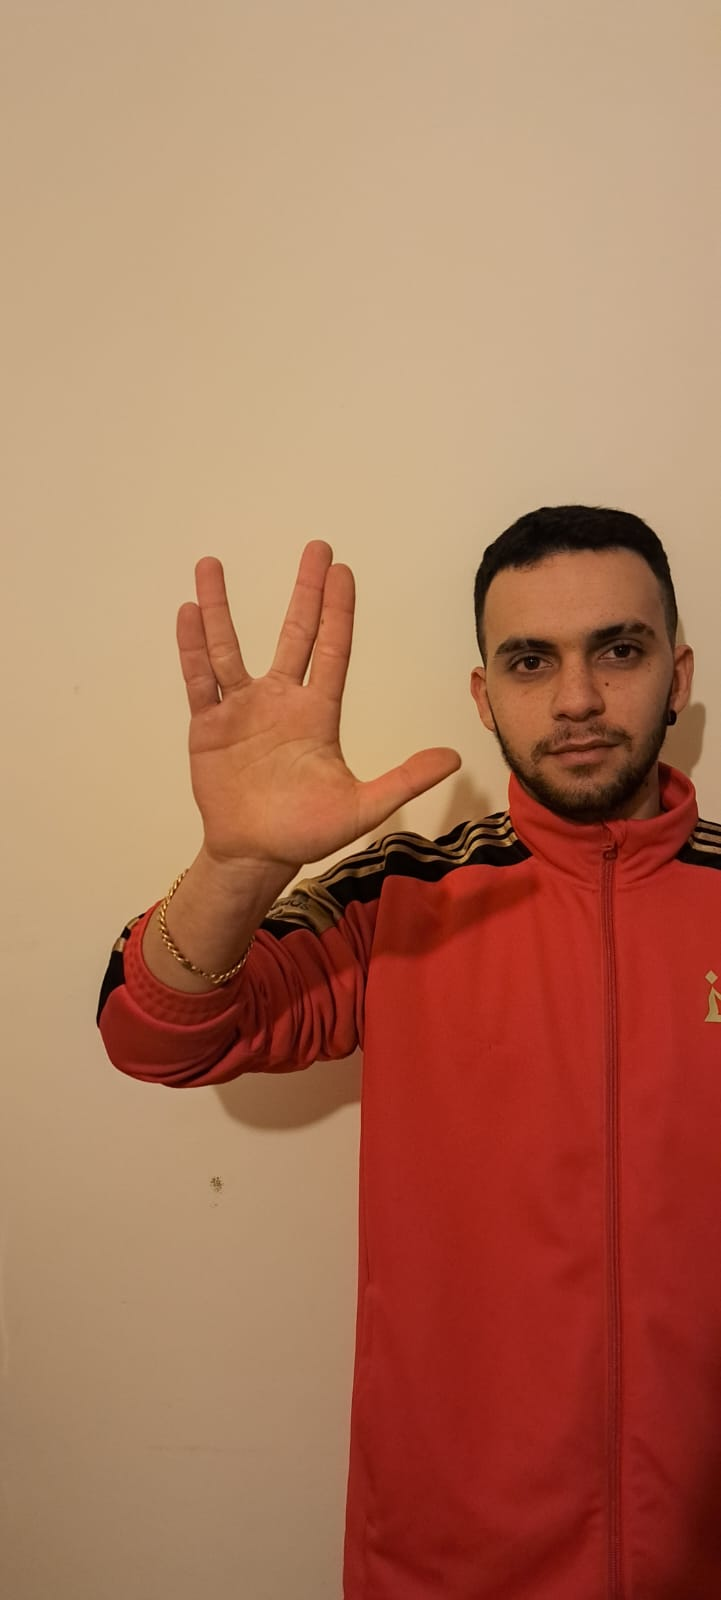alien: (167, 534, 469, 866)
